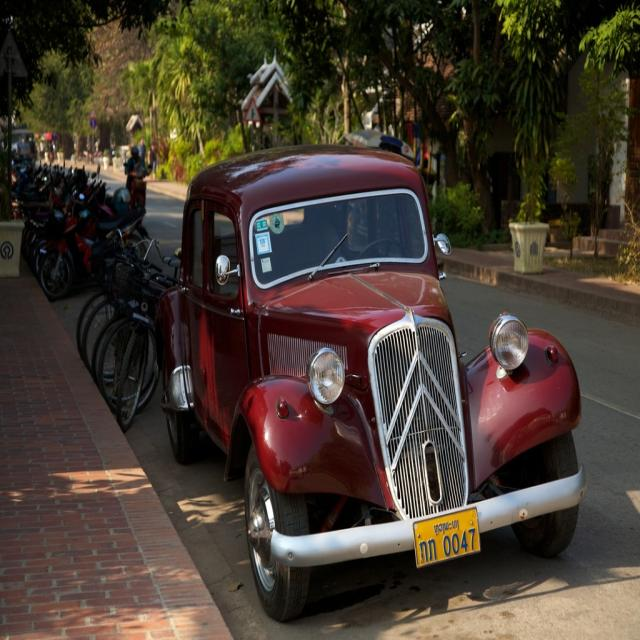car: (151, 136, 585, 622)
